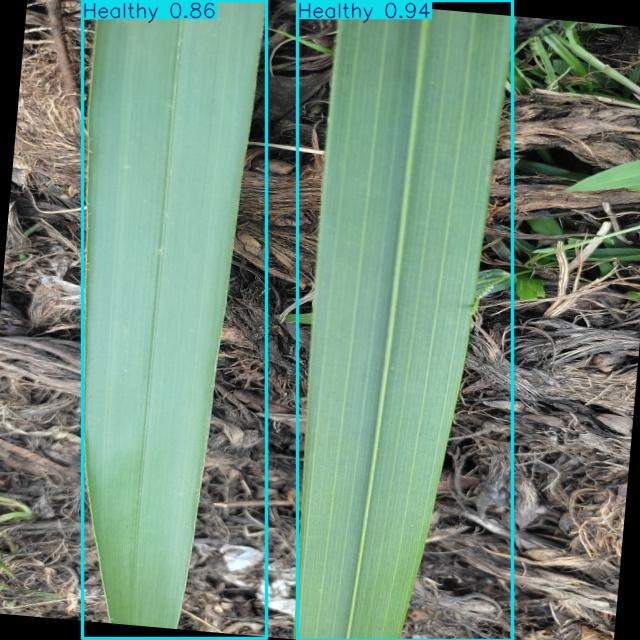Healthy: (297, 0, 513, 640), (82, 0, 267, 639)
